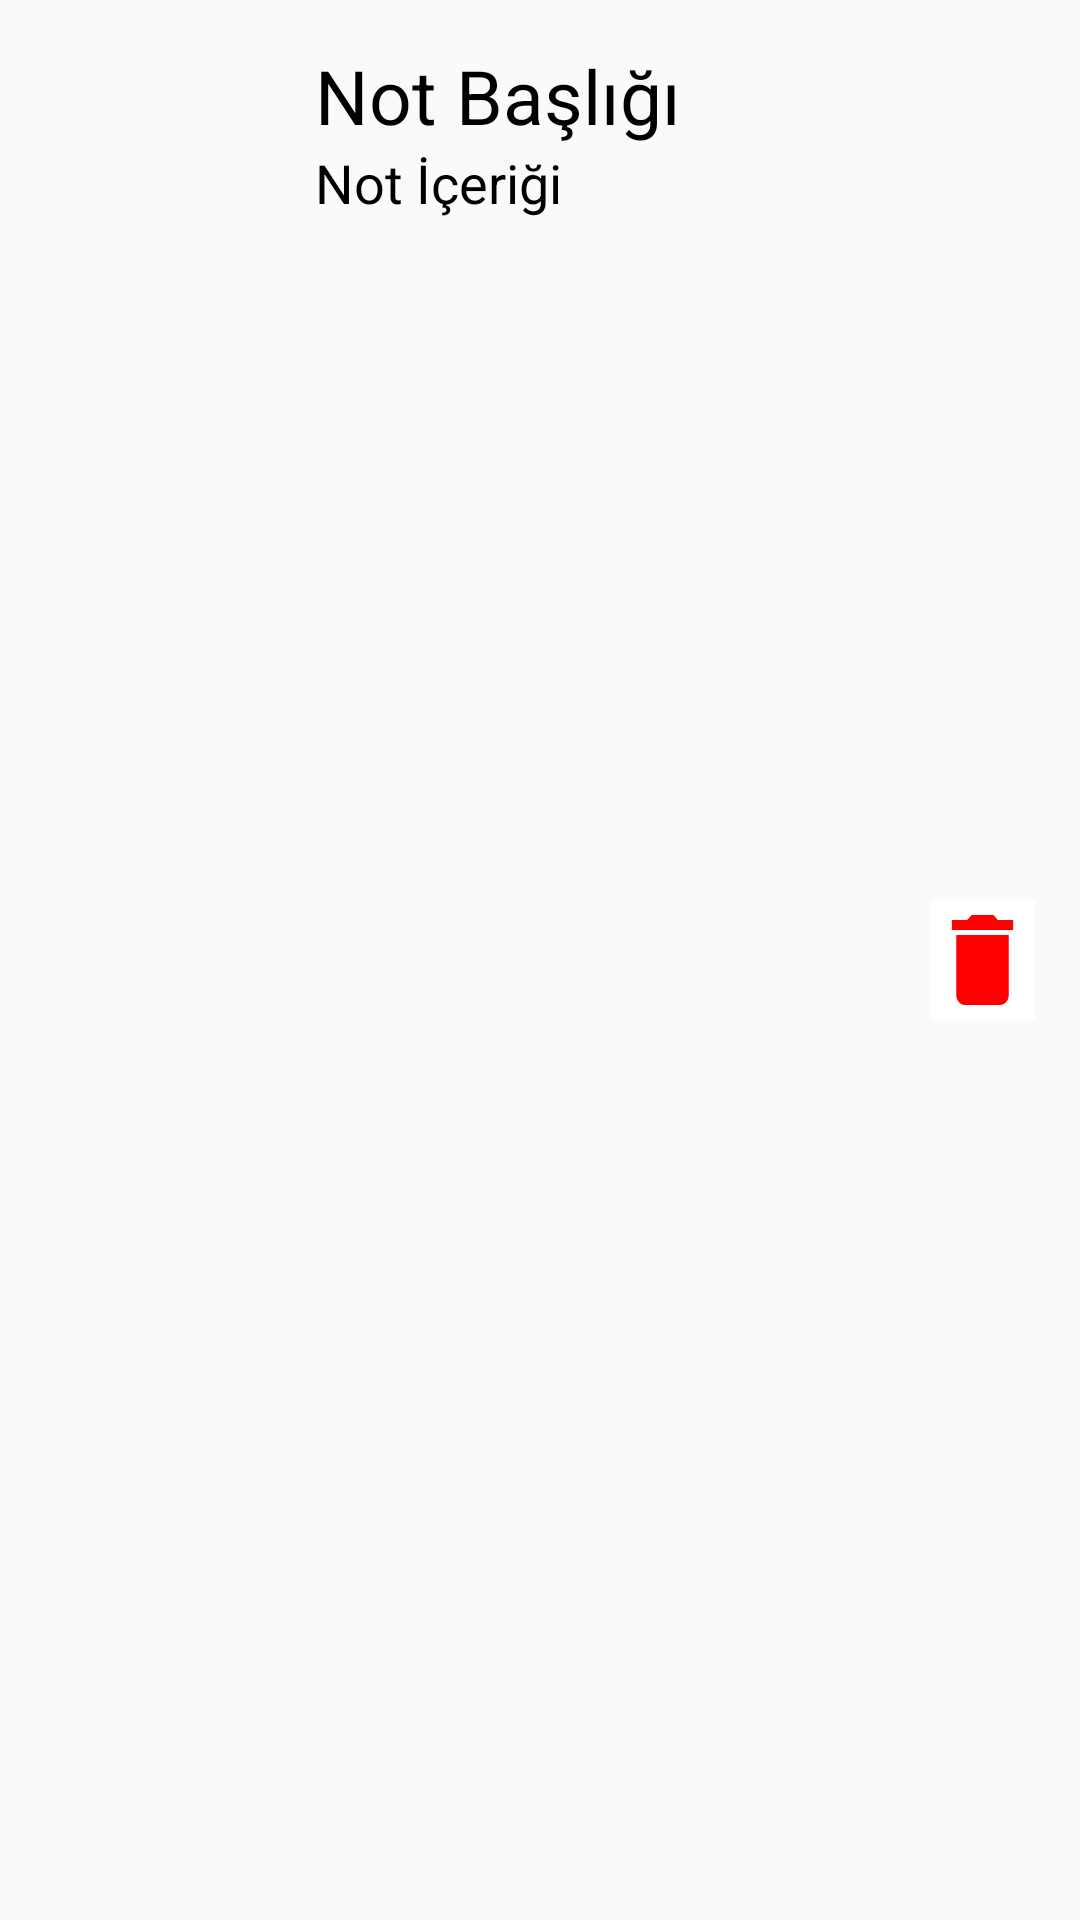

Screen size 1080*1920. Icon name, then its box in pixels as (x1, y1, x2, y2):
delete: (951, 915, 1014, 1005)
